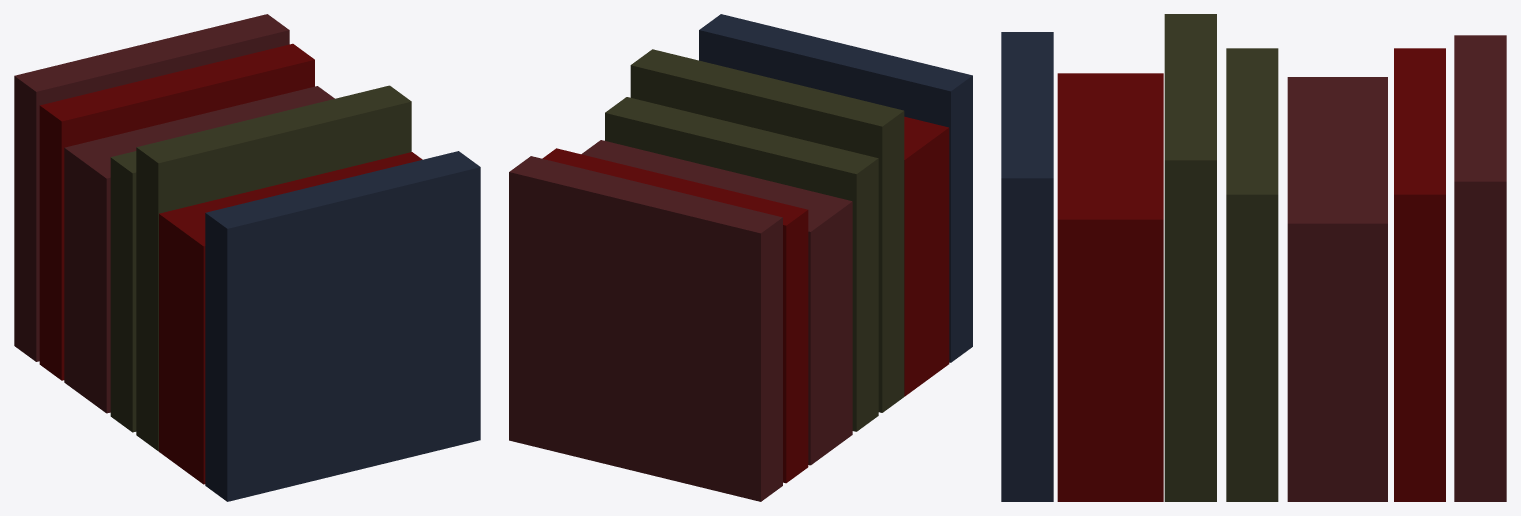
File: Books.FBX
The picture shows the model from 3 angles, left to right: view 1: azimuth 30°, elevation 25°; view 2: azimuth 150°, elevation 25°; view 3: azimuth 270°, elevation 25°; orthographic projection. The views are drawn at different scales.
Parts seen in each view (by area): view 1: Box017; view 2: Box017; view 3: Box017.
Part boxes in pixels (x1=…): Box017: x1=14, y1=14, x2=480, y2=501; Box017: x1=509, y1=14, x2=972, y2=501; Box017: x1=1001, y1=14, x2=1506, y2=501.
Bounding box in the file's own units: 13.28 × 14.44 × 19.36.
